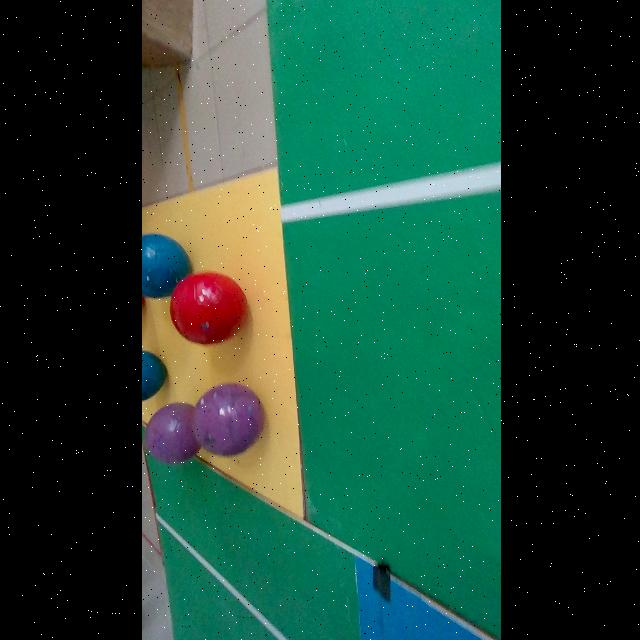B: (140, 236, 189, 298), (140, 351, 164, 401)
P: (191, 384, 262, 456), (143, 403, 198, 464)
R: (168, 271, 246, 344)
